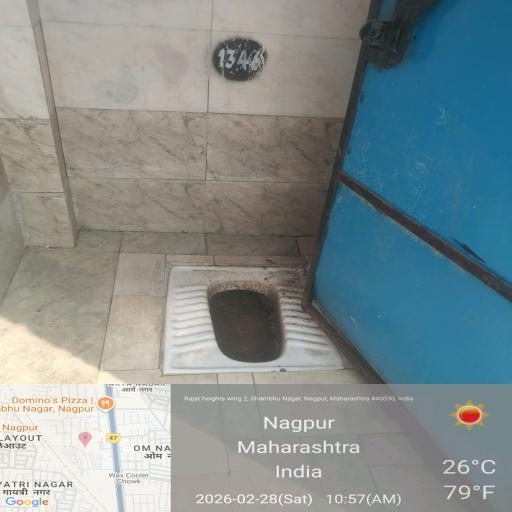dirty_floor: (31, 224, 471, 512)
dirty_indian: (134, 254, 391, 414)
partial_dirty_floor: (40, 0, 425, 209)
